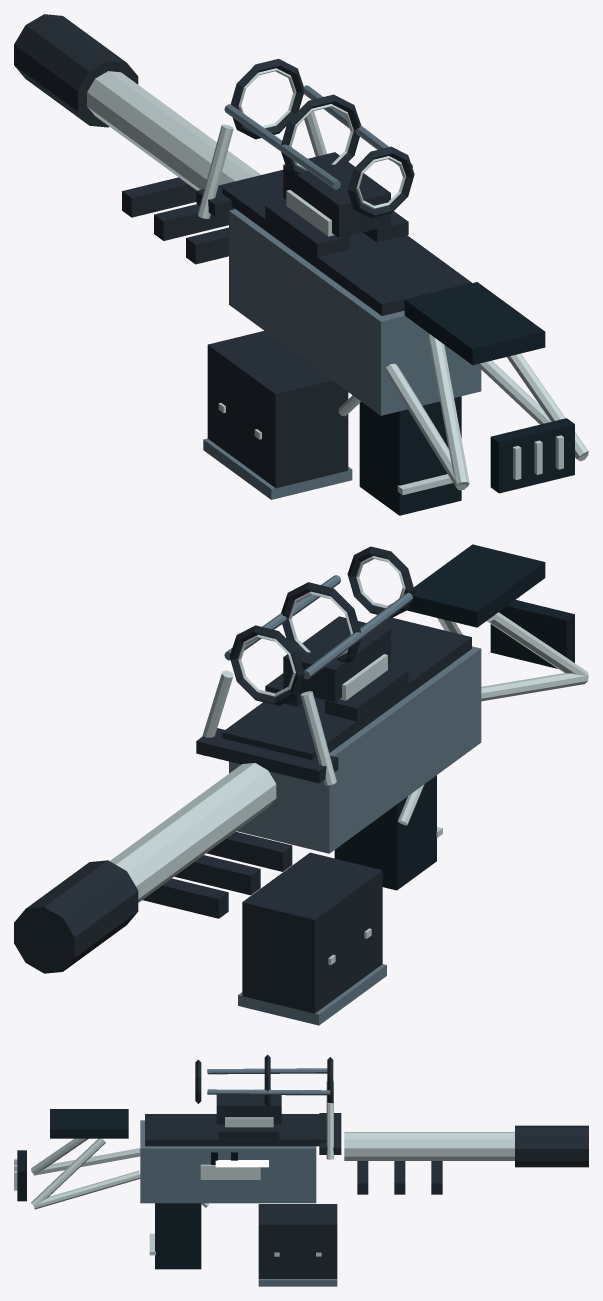
Rendered from world-8.glb.
3 renders of one model, top to bottom at view 1: azimuth 30°, elevation 25°; view 2: azimuth 150°, elevation 25°; view 3: azimuth 270°, elevation 25°, orthographic. The views are drawn at different scales.
Visible parts, largest first — view 1: body-dark, body-light, body-rubber, feed-dark, body-trim, barrel-assembly-trim, barrel-assembly-dark, feed-light; view 2: body-dark, body-light, feed-dark, body-rubber, barrel-assembly-dark, barrel-assembly-trim, body-trim, feed-light; view 3: body-light, body-dark, body-rubber, feed-dark, barrel-assembly-trim, body-trim, barrel-assembly-dark, bolt-trim, feed-light, body-glow.
Part boxes in pixels (bbox=[...]): body-dark: bbox=[122, 58, 471, 315]; body-light: bbox=[224, 85, 481, 415]; body-rubber: bbox=[359, 282, 574, 515]; feed-dark: bbox=[207, 330, 348, 488]; body-trim: bbox=[197, 68, 588, 494]; barrel-assembly-trim: bbox=[87, 71, 260, 190]; barrel-assembly-dark: bbox=[14, 14, 138, 127]; feed-light: bbox=[203, 438, 352, 499]; body-dark: bbox=[142, 546, 471, 918]; body-light: bbox=[224, 575, 481, 853]; feed-dark: bbox=[242, 852, 382, 1013]; body-rubber: bbox=[334, 544, 574, 890]; barrel-assembly-dark: bbox=[14, 860, 138, 973]; barrel-assembly-trim: bbox=[110, 763, 276, 902]; body-trim: bbox=[201, 556, 588, 837]; feed-light: bbox=[238, 964, 386, 1025]; body-light: bbox=[140, 1068, 330, 1203]; body-dark: bbox=[145, 1054, 442, 1194]; body-rubber: bbox=[17, 1109, 201, 1269]; feed-dark: bbox=[258, 1204, 337, 1278]; barrel-assembly-trim: bbox=[344, 1132, 514, 1160]; body-trim: bbox=[14, 1080, 333, 1255]; barrel-assembly-dark: bbox=[515, 1125, 588, 1167]; bolt-trim: bbox=[200, 1164, 260, 1179]; feed-light: bbox=[258, 1279, 337, 1286]; body-glow: bbox=[215, 1160, 268, 1167].
Size of the model in its own units: 0.1993 by 0.5281 by 1.24.
